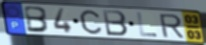4: (52, 7, 74, 35)
B: (101, 9, 130, 38), (23, 5, 51, 34)
C: (78, 9, 103, 36)
L: (136, 12, 160, 38)
R: (158, 13, 186, 39)
